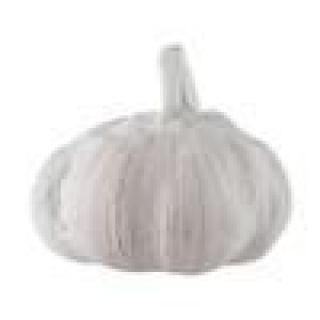Bawang Putih: (33, 40, 305, 283)
